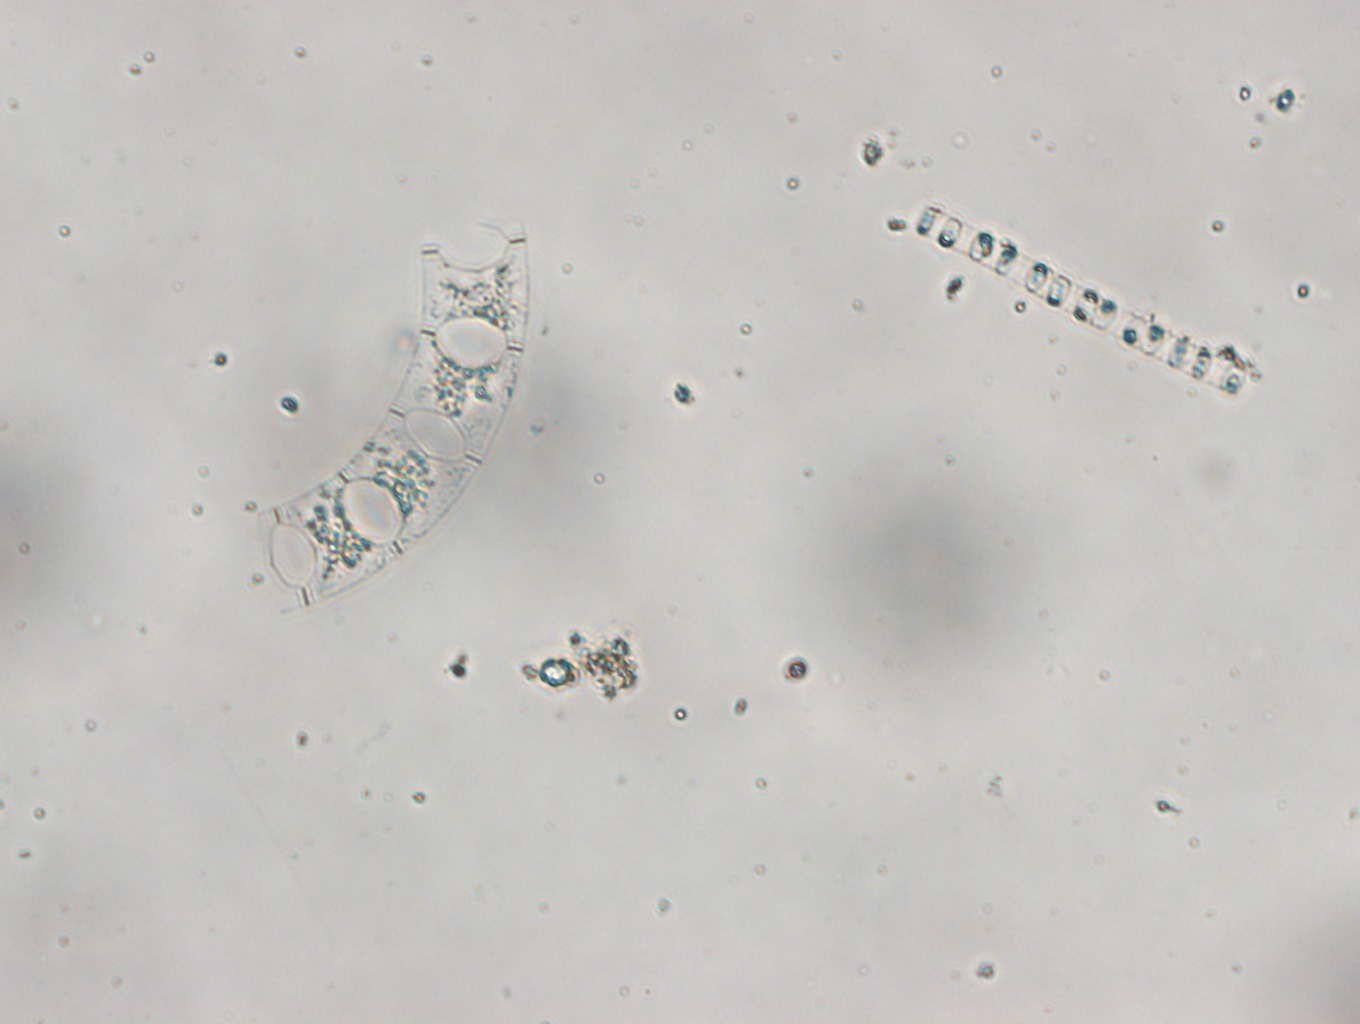eucampia: (231, 207, 534, 622)
skeletonema: (912, 195, 1263, 406)
